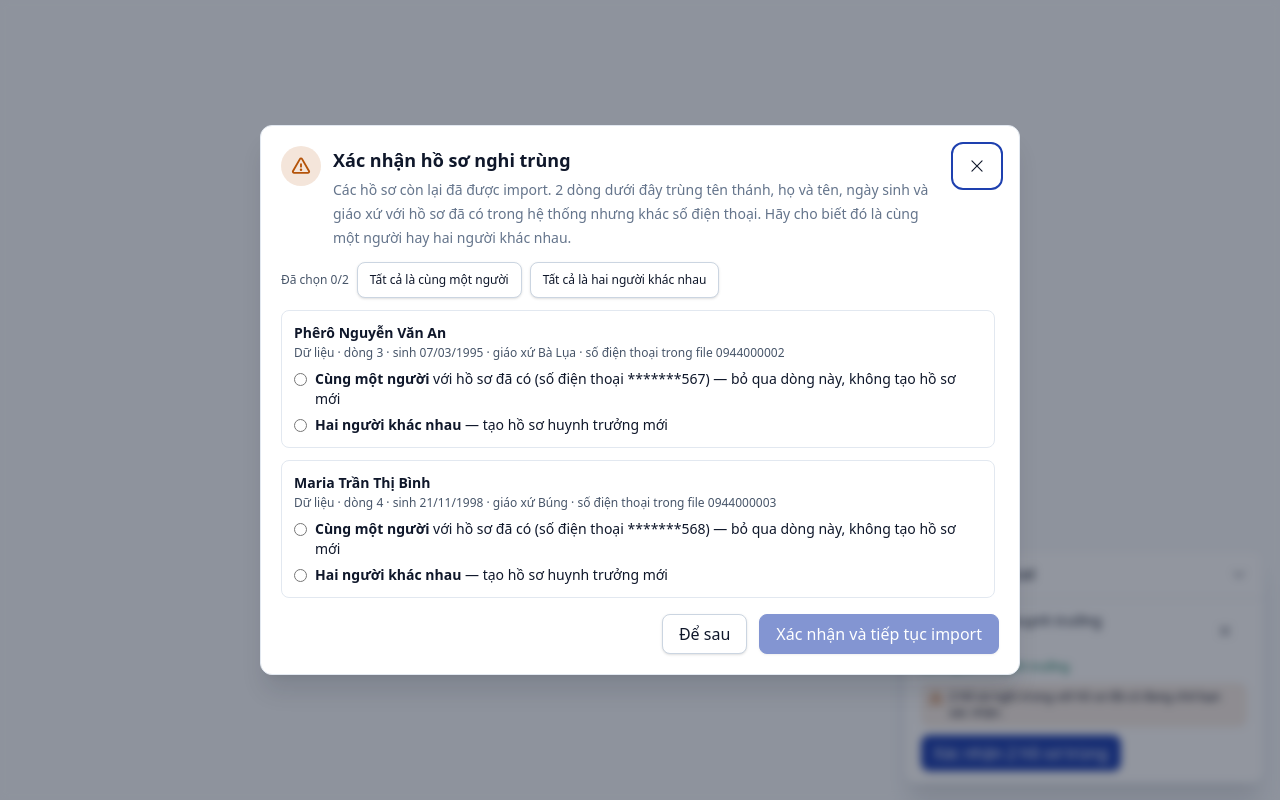
Test: ExcelJobsTray › import xong còn hồ sơ nghi trùng thì mở hộp thoại, bắt chọn hết rồi gửi quyết định và theo dõi tác vụ mới
This screenshot has width=1280, height=800.
Expected: the heading "Xác nhận hồ sơ nghi trùng" is shown, [333, 148, 571, 172]
Expected: the button "Xác nhận và tiếp tục import" is disabled, [759, 614, 999, 654]
Click the 1st radio button at [300, 380], box [294, 373, 307, 386]
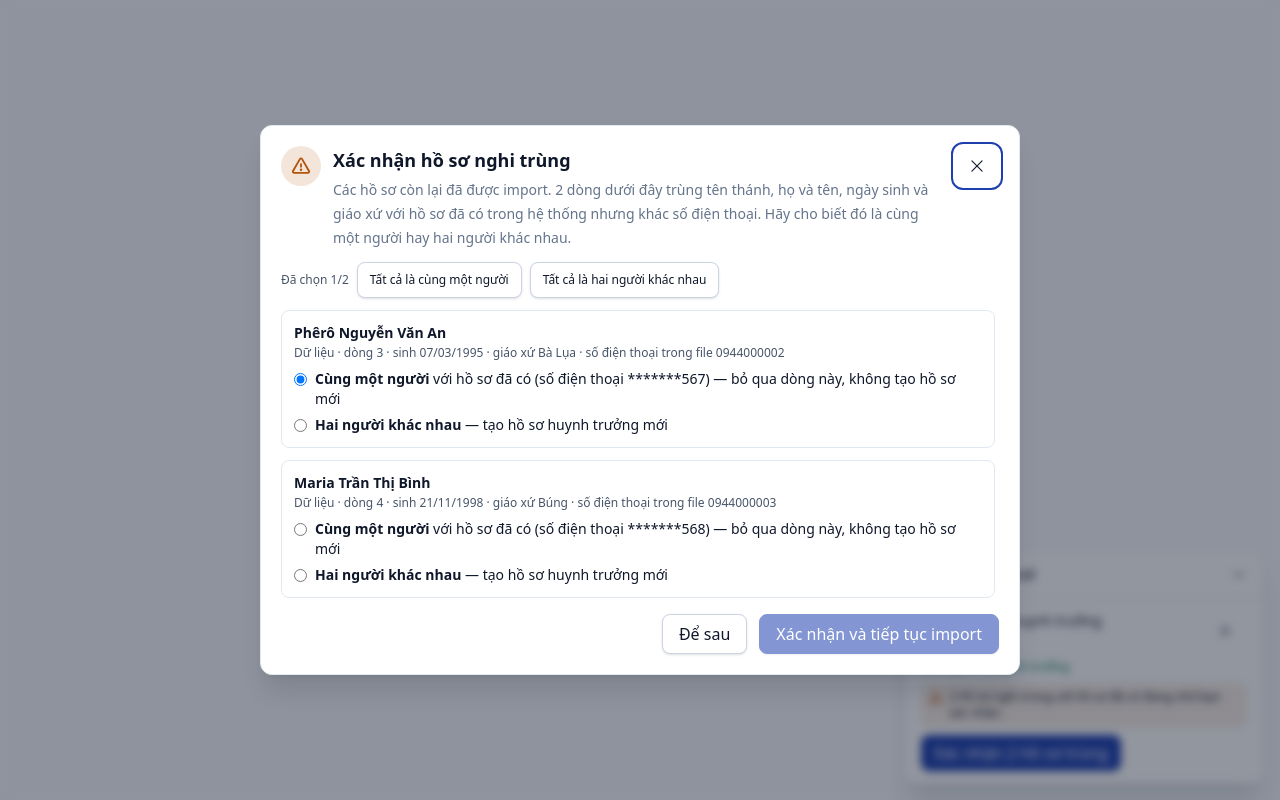
Expected: the button "Xác nhận và tiếp tục import" is disabled, [759, 614, 999, 654]
Click the radio button labelled "Hai người khác nhau — tạo hồ sơ huynh trưởng mới" below "Maria" at [300, 576], box [294, 569, 307, 582]
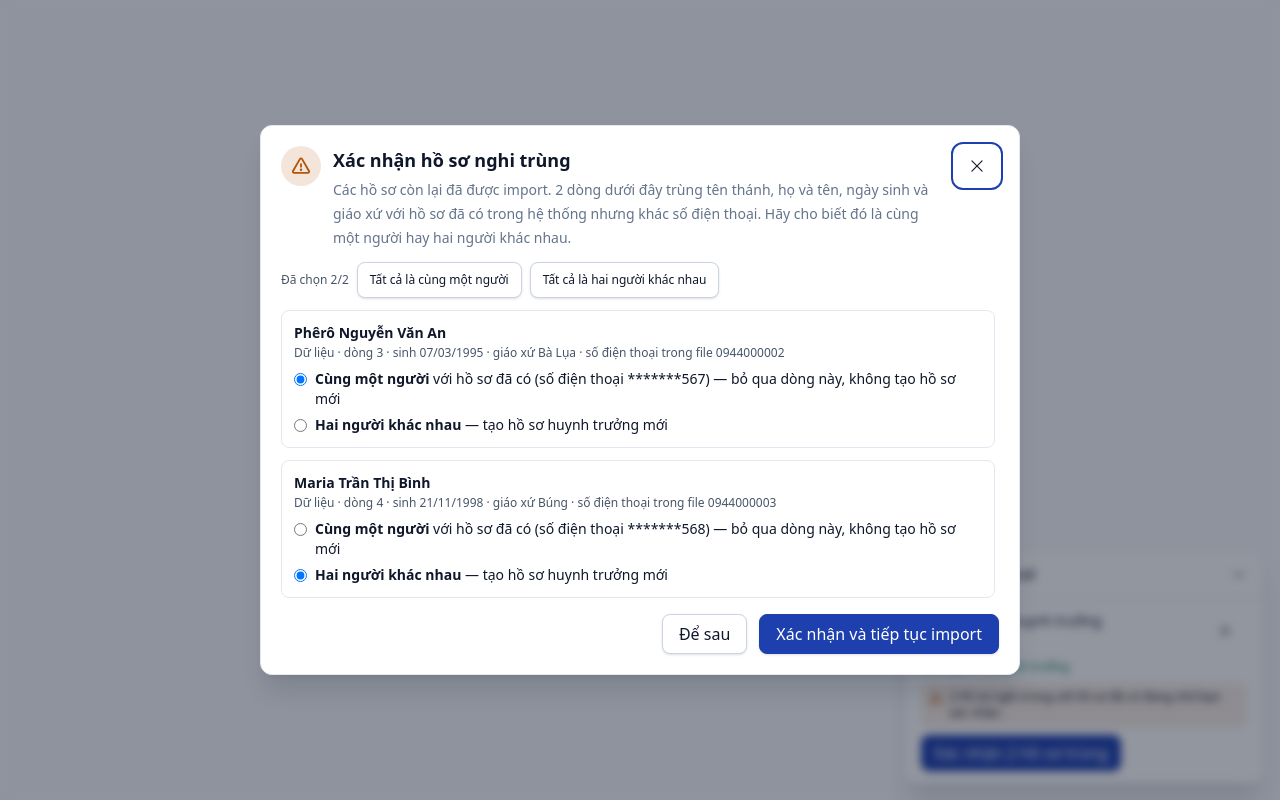
Expected: the button "Xác nhận và tiếp tục import" is enabled
Click the button "Xác nhận và tiếp tục import" at [879, 634], box [759, 614, 999, 654]
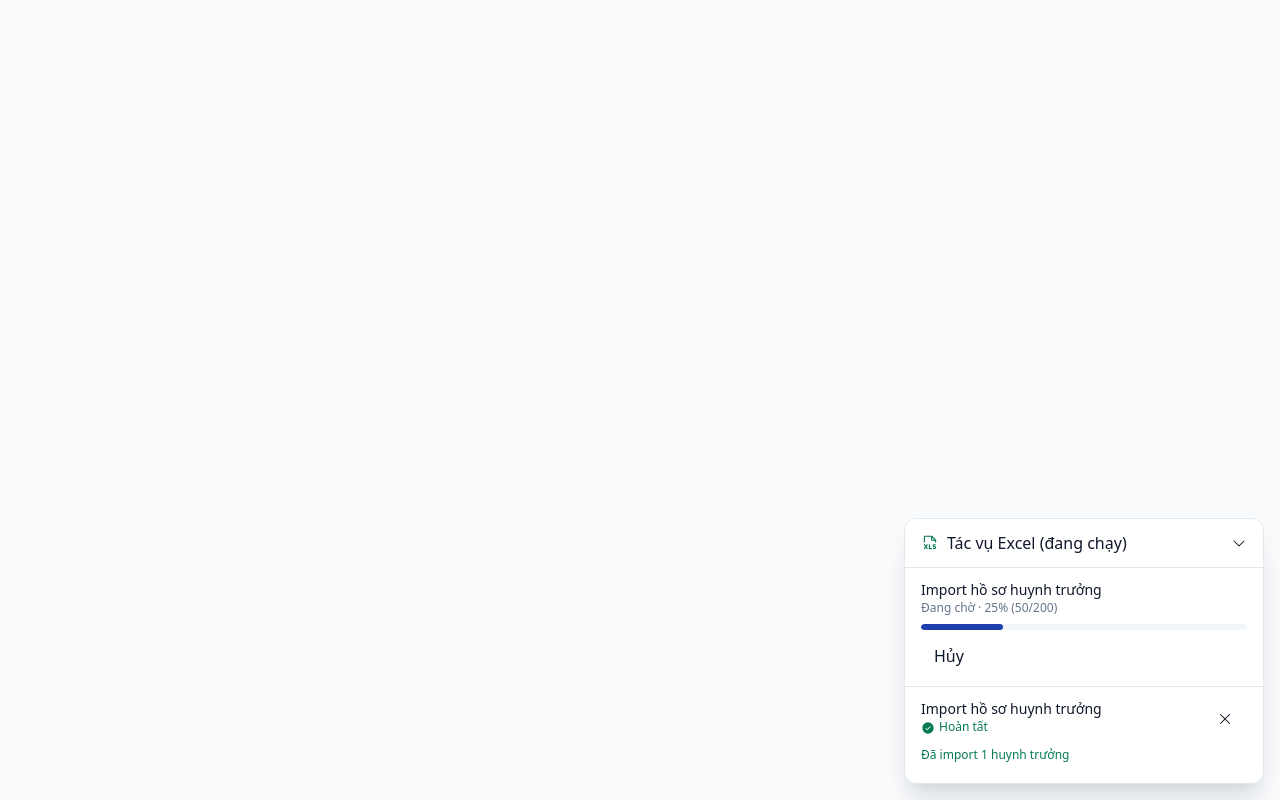
Expected: the heading "Xác nhận hồ sơ nghi trùng" is gone
